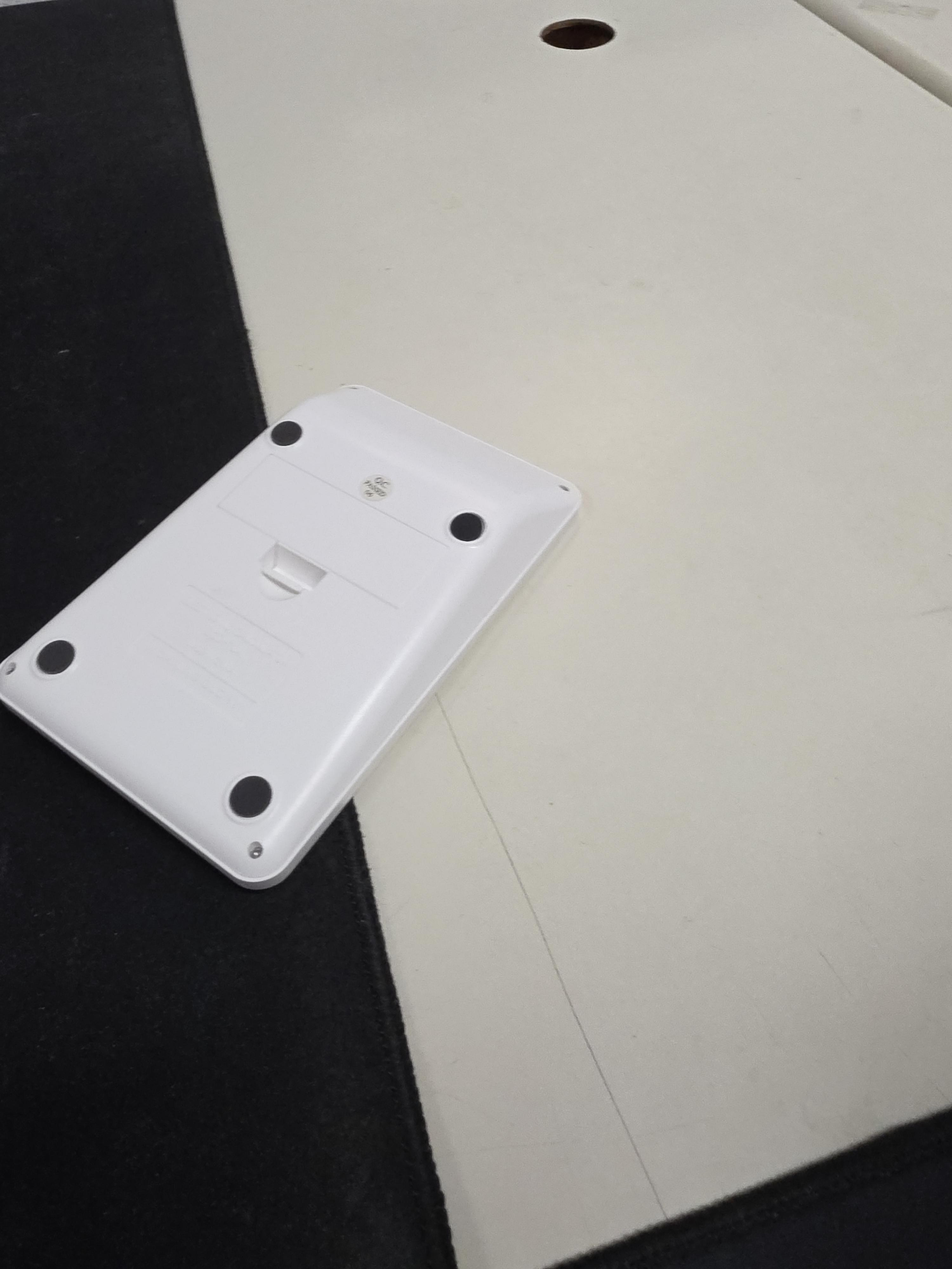calculator: (0, 385, 583, 891)
